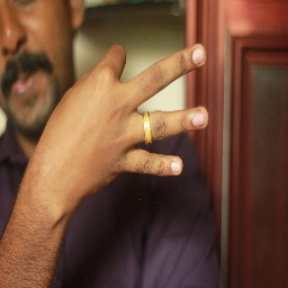K: (48, 37, 209, 192)
